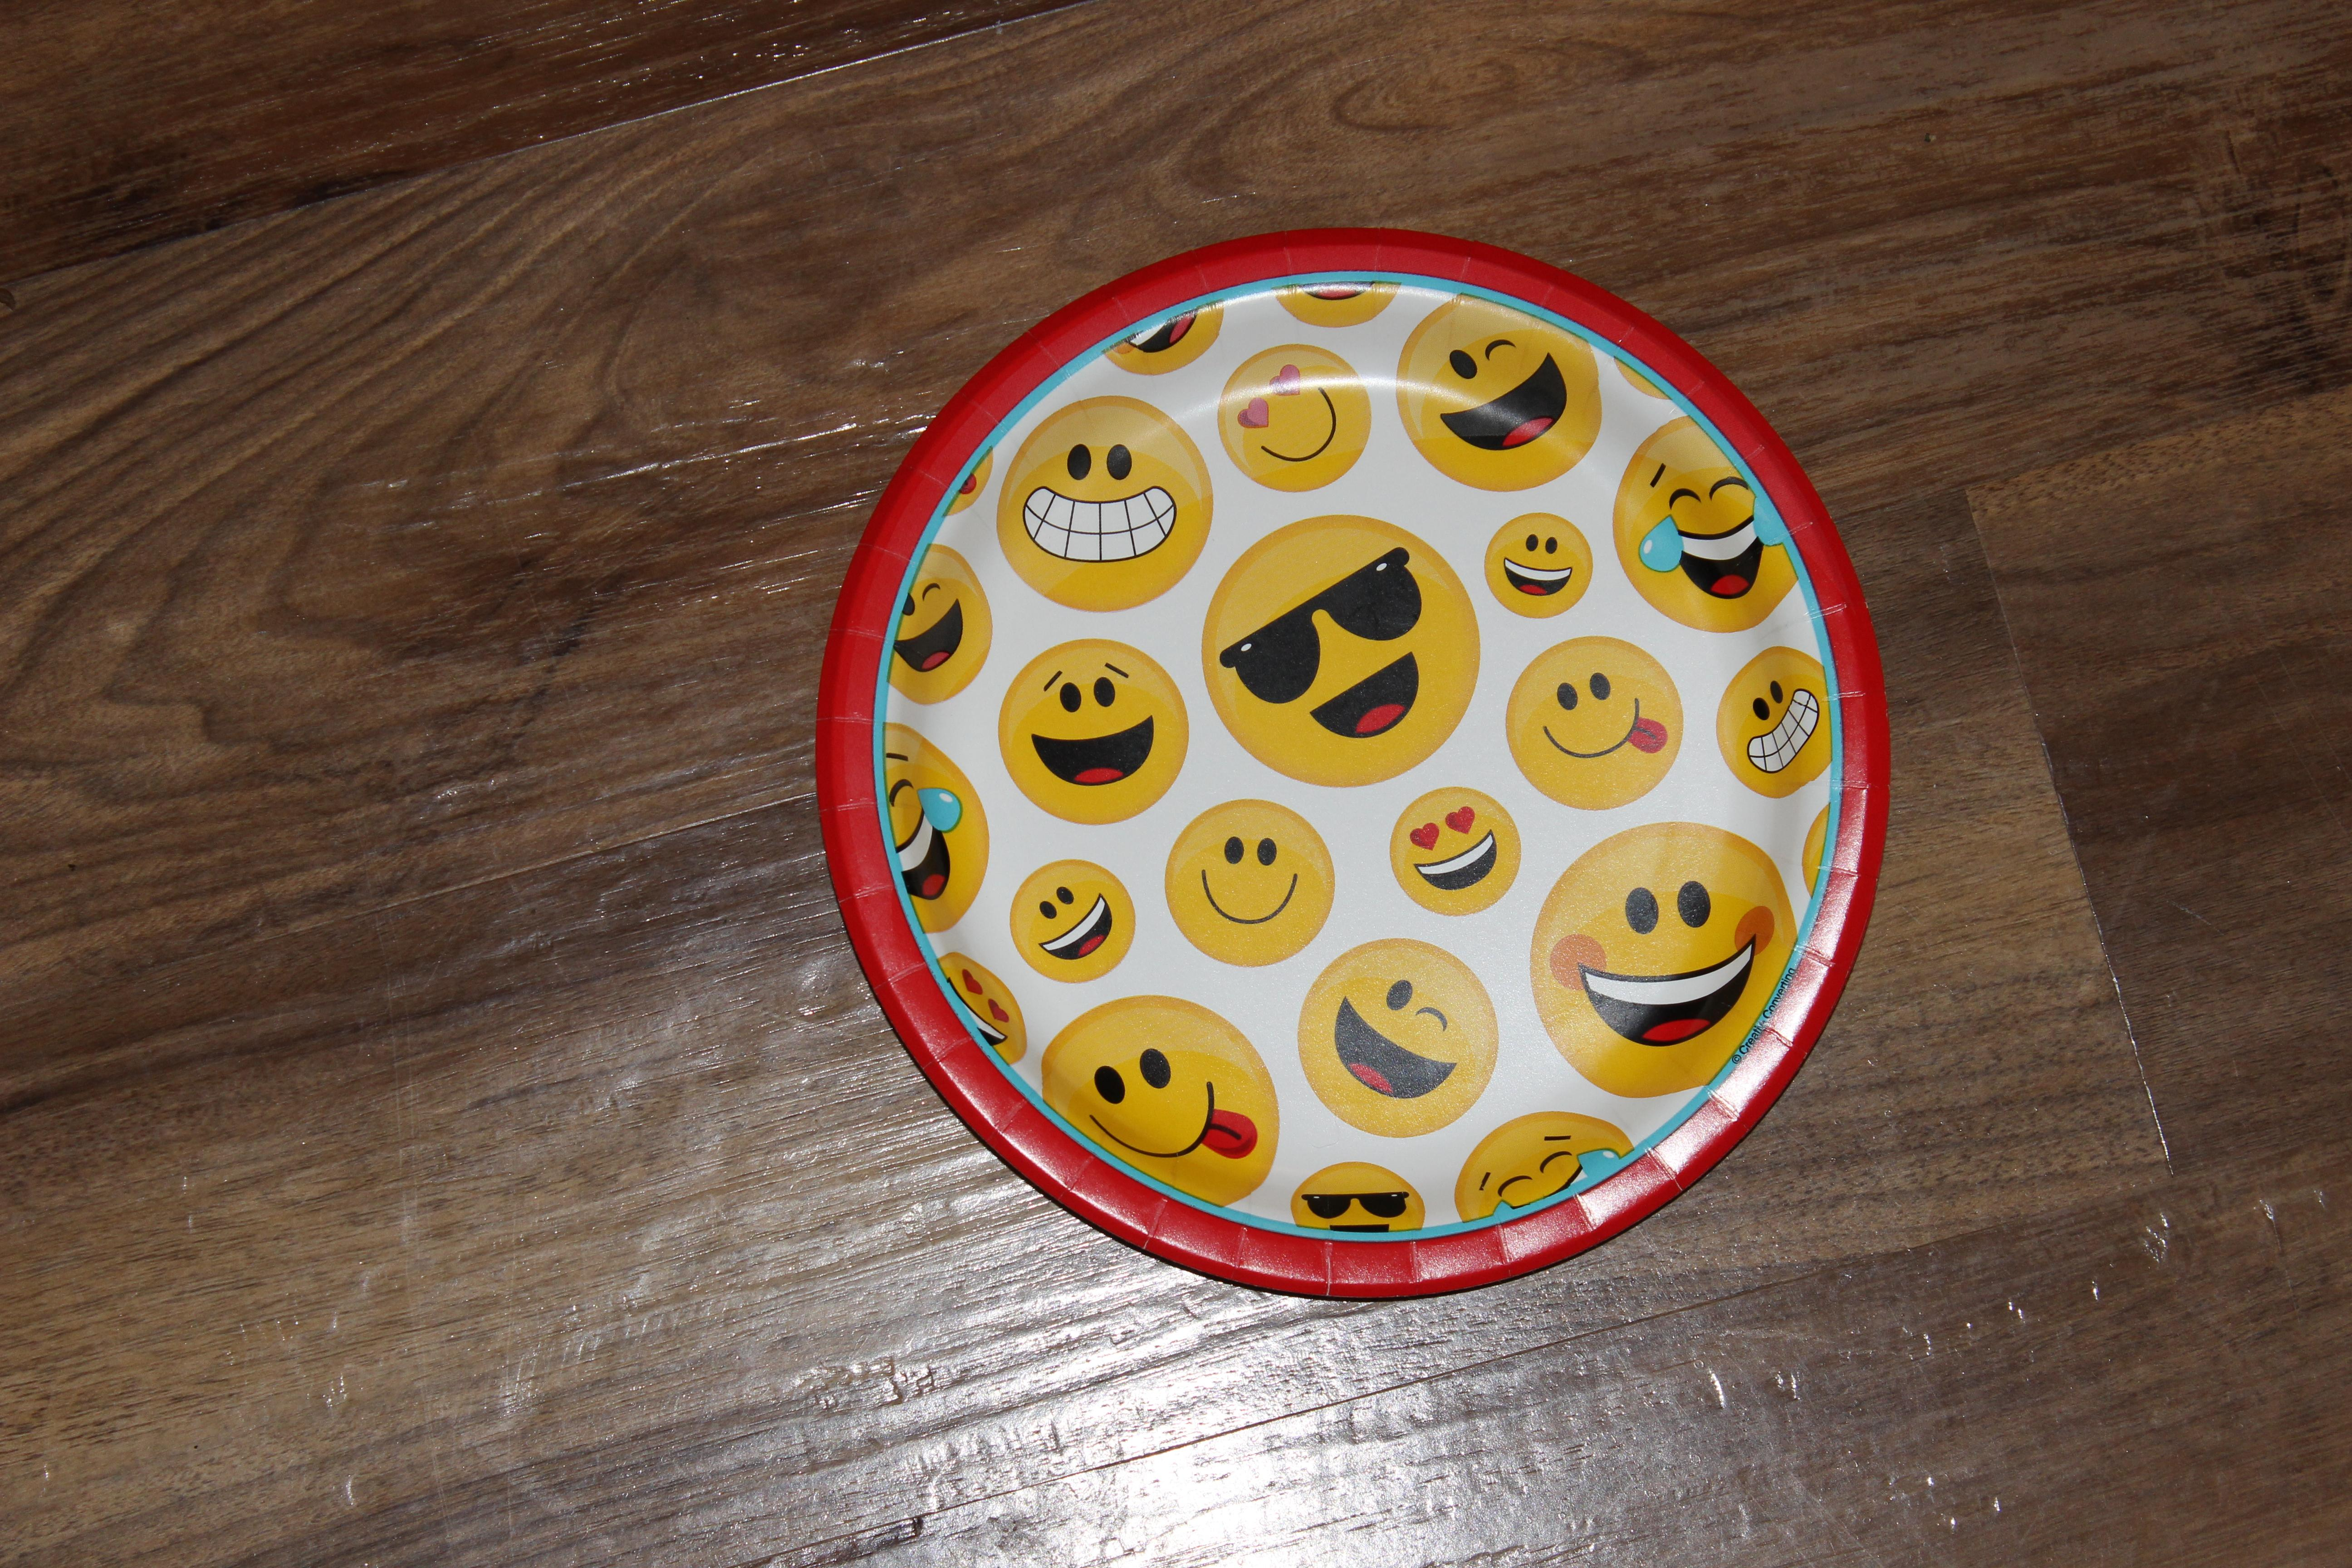paperPlate: (751, 189, 1970, 1356)
